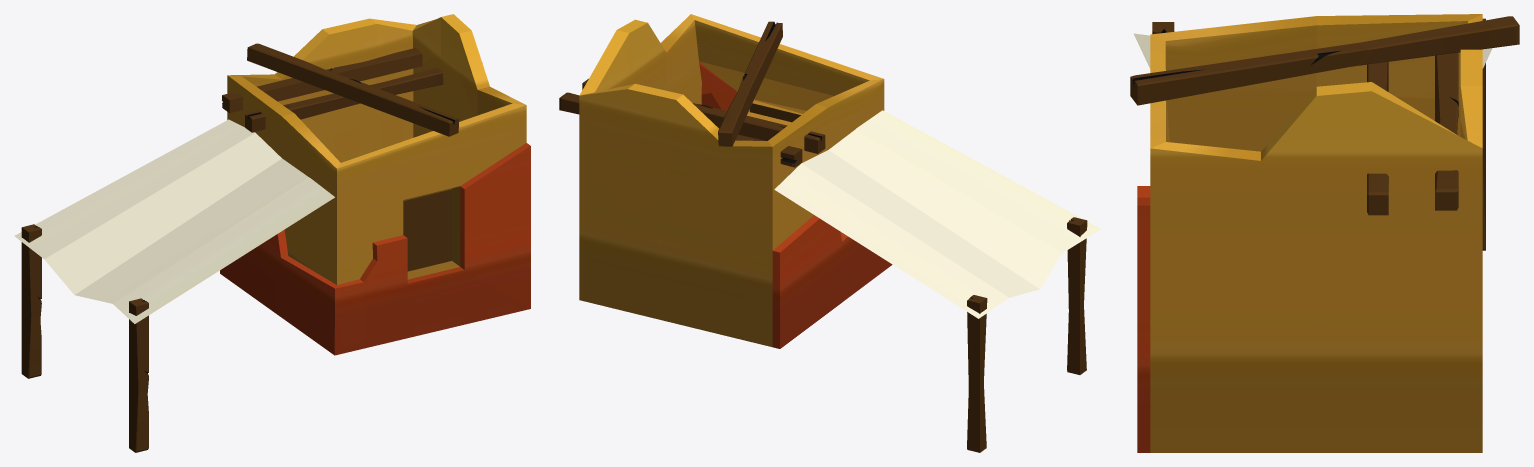
File: RuinaCasa3.glb
The picture shows the model from 3 angles, left to right: view 1: azimuth 30°, elevation 25°; view 2: azimuth 150°, elevation 25°; view 3: azimuth 270°, elevation 25°; orthographic projection. The views are drawn at different scales.
Parts seen in each view (by area): view 1: RuinaCasa3; view 2: RuinaCasa3; view 3: RuinaCasa3.
Boxes of the visible parts, x1,y1,x2,y2 form: RuinaCasa3: (14, 14, 530, 452); RuinaCasa3: (559, 14, 1100, 452); RuinaCasa3: (1130, 14, 1519, 452).
Bounding box in the file's own units: 4.07 × 2.66 × 2.13.
1 material, 1 textured.
